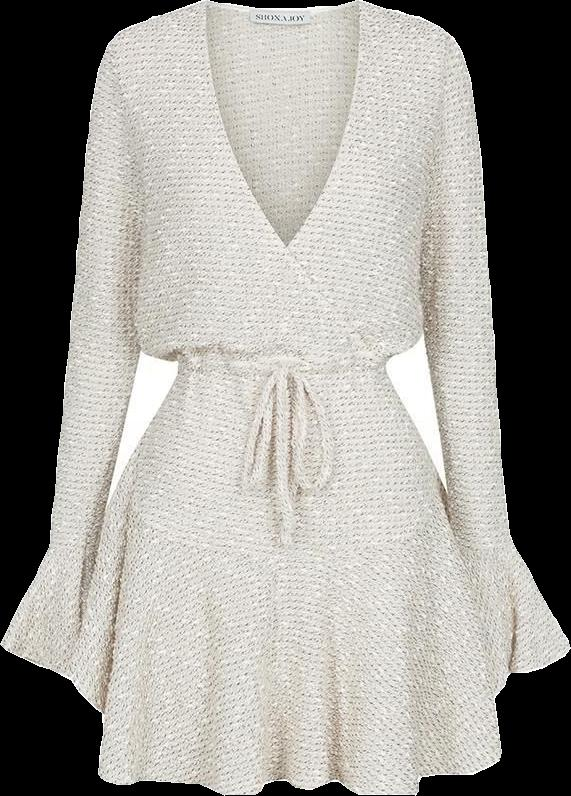Bodice: (103, 0, 451, 365)
Hemline: (43, 663, 509, 795)
Neckline: (202, 0, 363, 251)
Skirt: (47, 354, 501, 794)
Sleeve: (422, 34, 569, 693), (1, 42, 145, 683)
Sleeveline: (100, 45, 155, 202), (431, 36, 455, 201)
Waistline: (172, 348, 390, 367)
